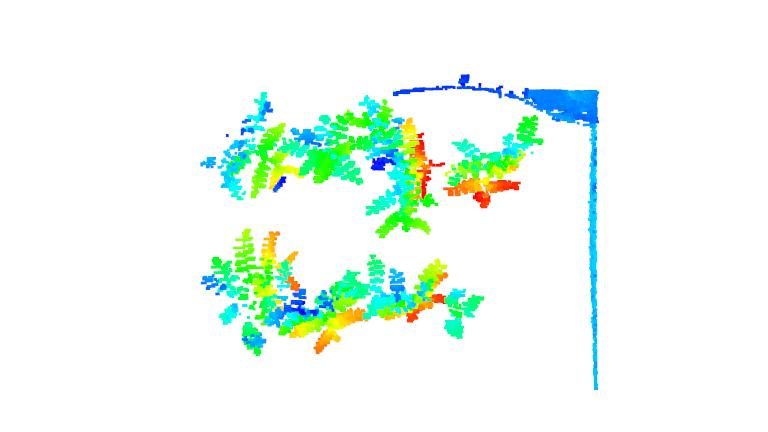chickpea: (204, 227, 309, 368), (197, 92, 304, 200), (366, 115, 444, 240), (447, 117, 547, 210), (296, 90, 388, 185), (291, 266, 367, 367), (364, 250, 446, 326), (441, 285, 493, 346)
